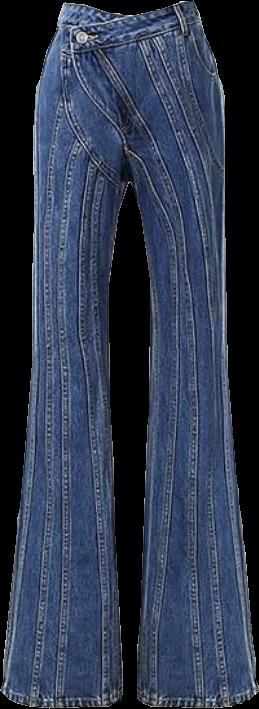Hemline: (0, 684, 124, 708), (135, 687, 258, 708)
Pantleg: (127, 0, 258, 706), (1, 3, 130, 706)
Waistline: (63, 0, 195, 22)
